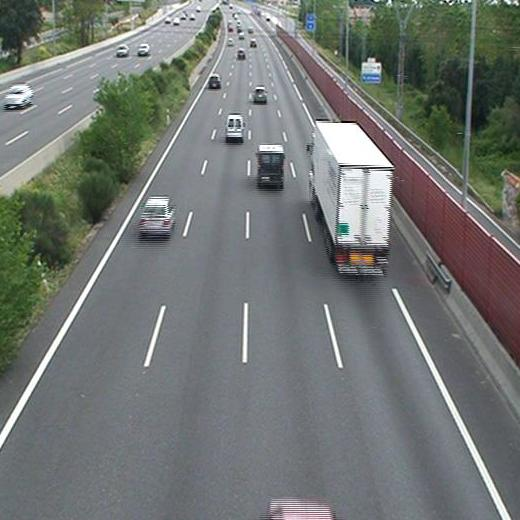car: (141, 198, 174, 232), (253, 87, 267, 102), (208, 75, 220, 87), (236, 50, 246, 58)
truck: (309, 121, 391, 272)
van: (257, 144, 284, 184), (225, 116, 243, 138)
